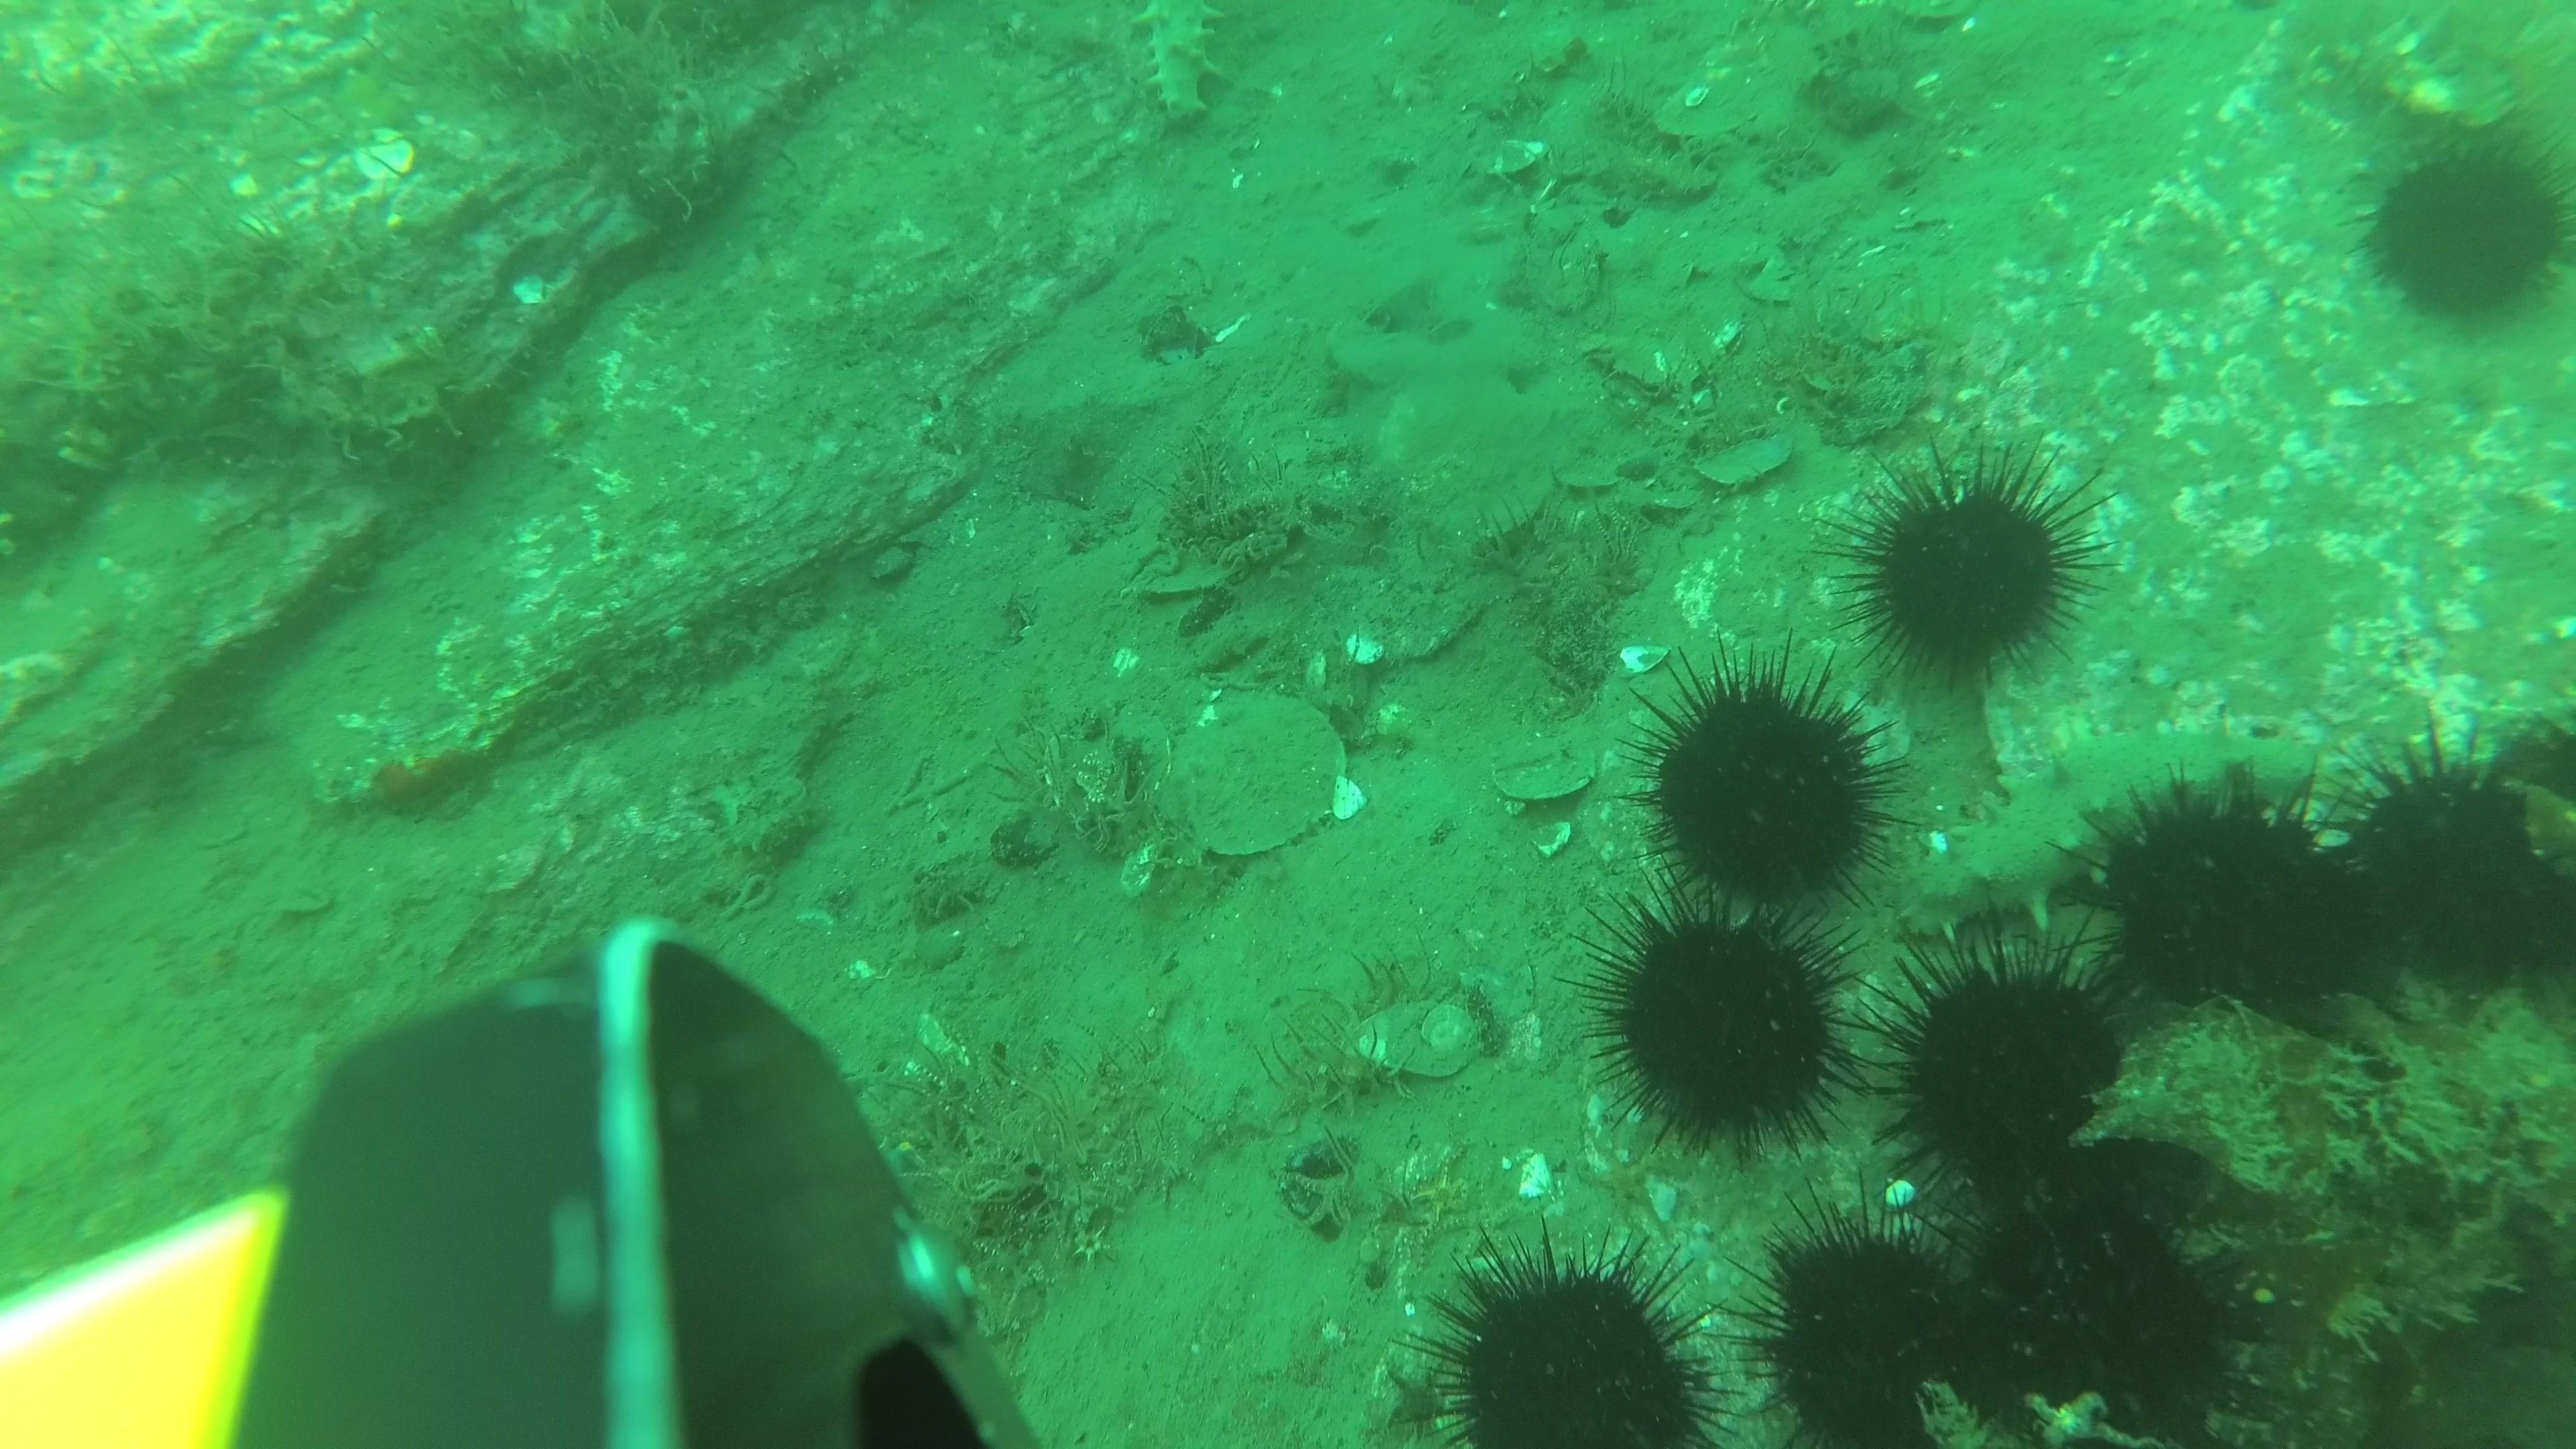echinus: (2065, 755, 2392, 1051), (1863, 920, 2146, 1214), (1580, 885, 1868, 1159), (1944, 1189, 2258, 1438), (1624, 649, 1904, 916), (2318, 724, 2574, 1005), (1833, 444, 2109, 694), (1729, 1194, 1997, 1442), (1415, 1230, 1723, 1444), (2353, 126, 2572, 331)
holothurian: (1900, 715, 2323, 941), (1131, 2, 1226, 136)
scallop: (1168, 690, 1352, 862), (1495, 741, 1596, 807)
